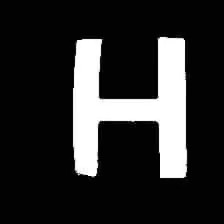LTR_H: (61, 21, 203, 189)
